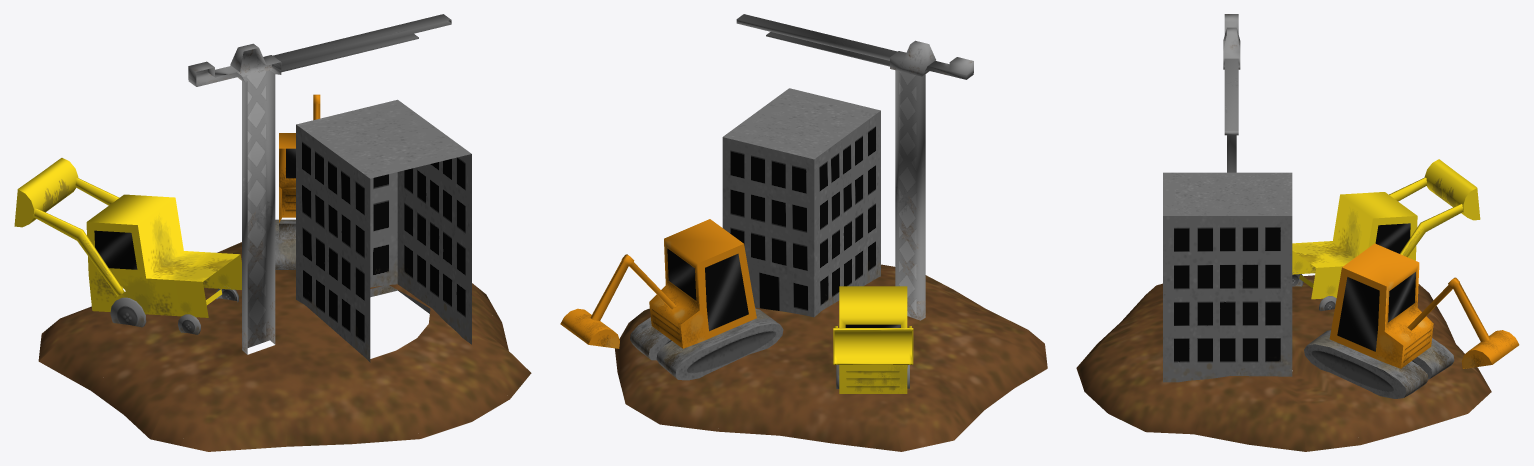
File: BuildingSite.fbx
3 views of the same model, side by side, from view 1: azimuth 30°, elevation 25°; view 2: azimuth 150°, elevation 25°; view 3: azimuth 270°, elevation 25° (orthographic). The views are drawn at different scales.
Visible parts, largest first — view 1: Box003, Box010, Box004, Box011; view 2: Box003, Box010, Box011, Box004; view 3: Box003, Box010, Box011, Box004.
Part boxes in pixels (left/top/right/bottom): Box003: left=38, top=14, right=531, bottom=451; Box010: left=296, top=99, right=471, bottom=362; Box004: left=14, top=158, right=241, bottom=334; Box011: left=275, top=94, right=320, bottom=269; Box003: left=615, top=14, right=1047, bottom=451; Box010: left=722, top=88, right=880, bottom=317; Box011: left=560, top=219, right=783, bottom=380; Box004: left=833, top=286, right=913, bottom=393; Box003: left=1076, top=14, right=1491, bottom=451; Box010: left=1163, top=172, right=1292, bottom=382; Box011: left=1304, top=243, right=1519, bottom=398; Box004: left=1292, top=159, right=1480, bottom=311.
Size of the model in its own units: 63.33 by 51.82 by 68.99.
